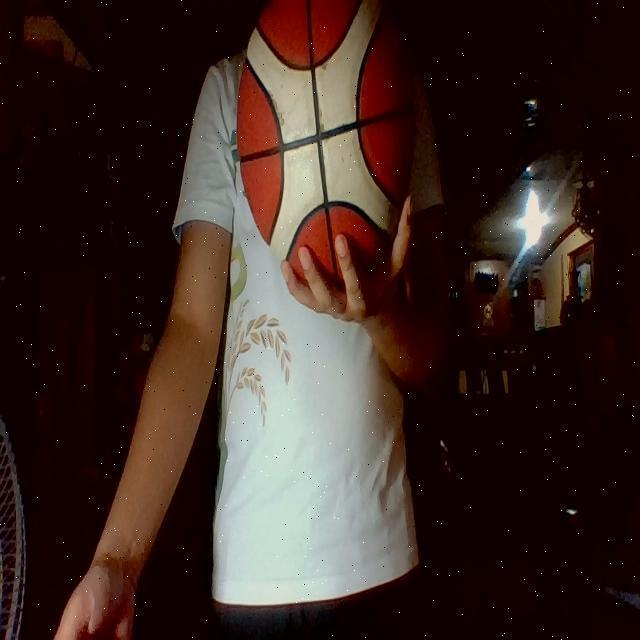ball: (234, 3, 417, 293)
